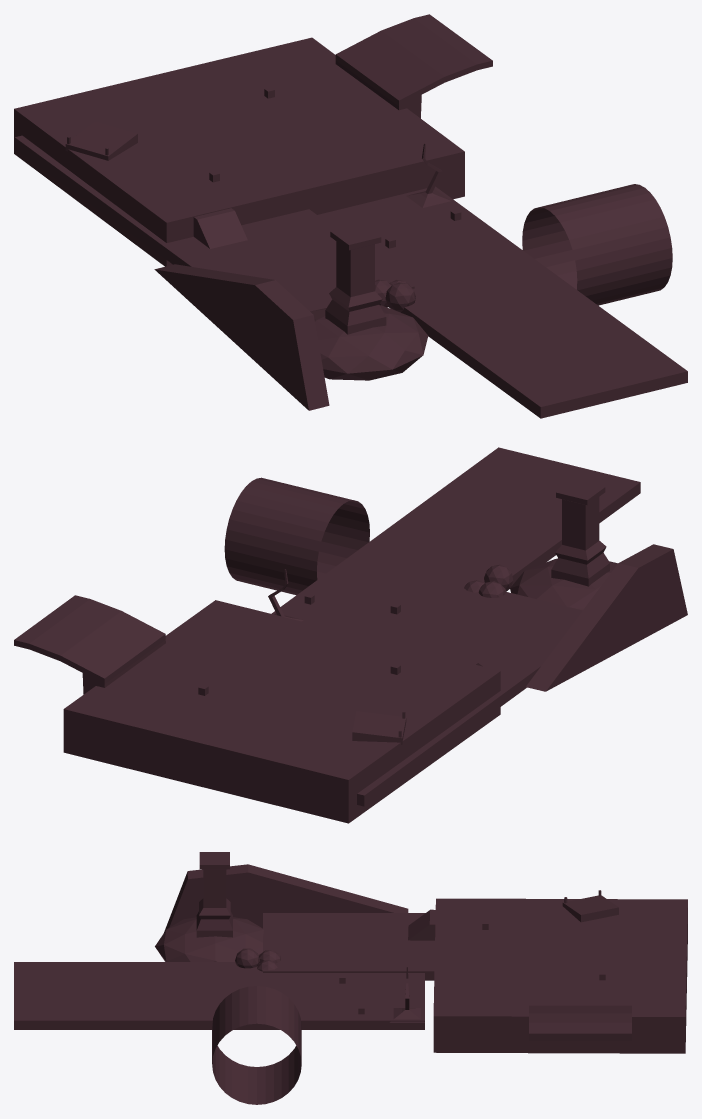
Rendered from blockout-1.glb.
3 renders of one model, top to bottom at view 1: azimuth 30°, elevation 25°; view 2: azimuth 150°, elevation 25°; view 3: azimuth 270°, elevation 25°, orthographic. The views are drawn at different scales.
Visible parts, largest first — view 1: blockout; view 2: blockout; view 3: blockout.
Part boxes in pixels (<box>): blockout: <box>14,14,687,418</box>; blockout: <box>14,447,687,823</box>; blockout: <box>14,852,687,1104</box>.
Bounding box in the file's own units: 75.17 × 25.98 × 131.
